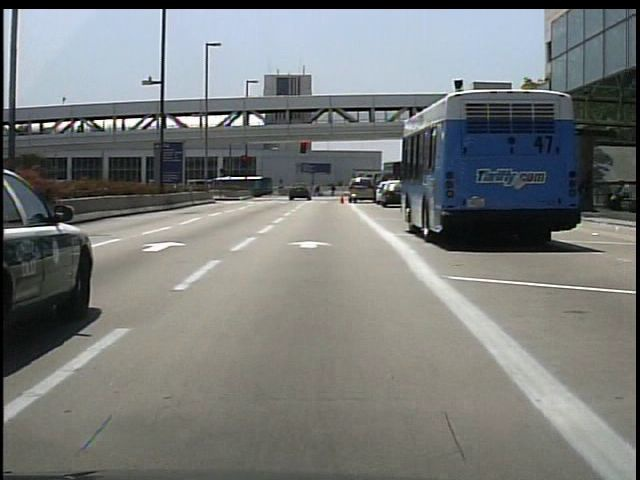person: (605, 180, 629, 211), (314, 183, 324, 198), (329, 182, 338, 198)
